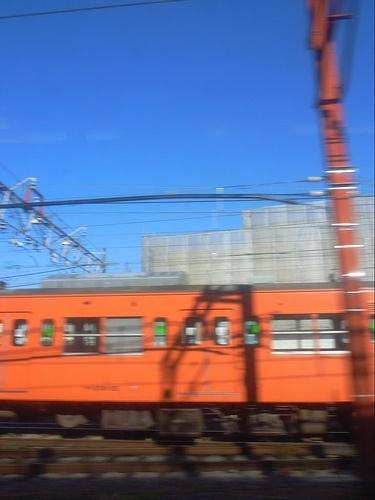train: (3, 272, 374, 443)
